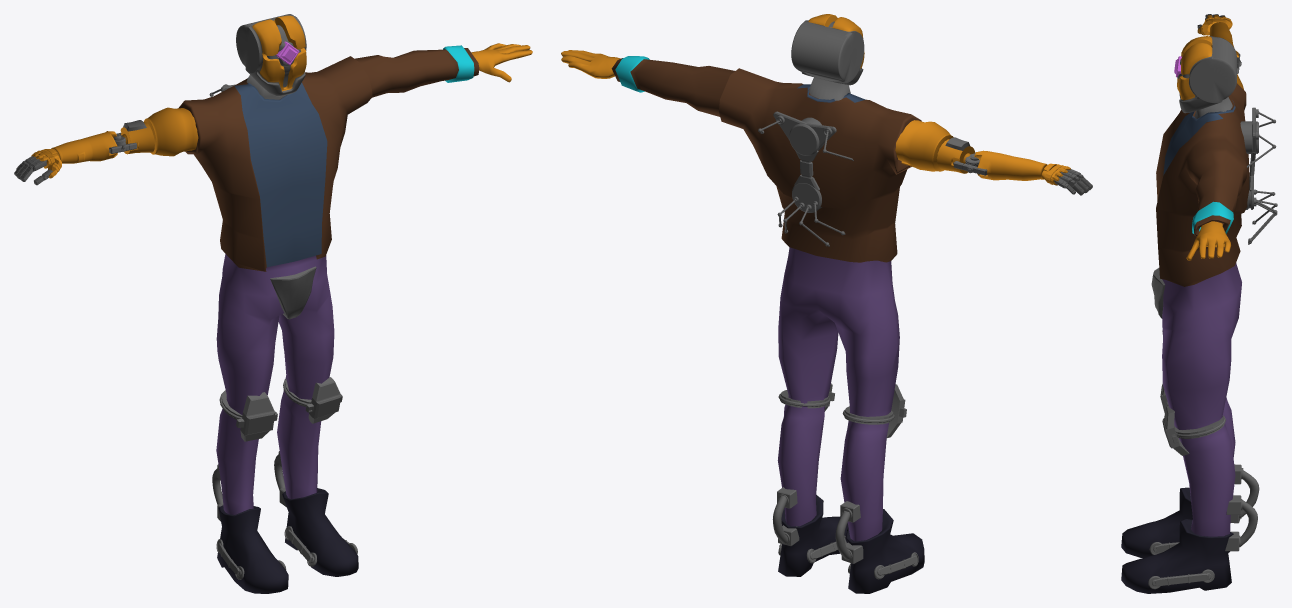
Rendered from Robot.fbx.
3 renders of one model, left to right at view 1: azimuth 30°, elevation 25°; view 2: azimuth 150°, elevation 25°; view 3: azimuth 270°, elevation 25°, orthographic. The views are drawn at different scales.
Parts seen in each view (by area): view 1: Cyborg_Character2; view 2: Cyborg_Character2; view 3: Cyborg_Character2.
Boxes of the visible parts, x1,y1,x2,y2 form: Cyborg_Character2: (14, 14, 532, 593); Cyborg_Character2: (561, 14, 1092, 593); Cyborg_Character2: (1121, 14, 1277, 593).
Size of the model in its own units: 176 by 176 by 47.45.
